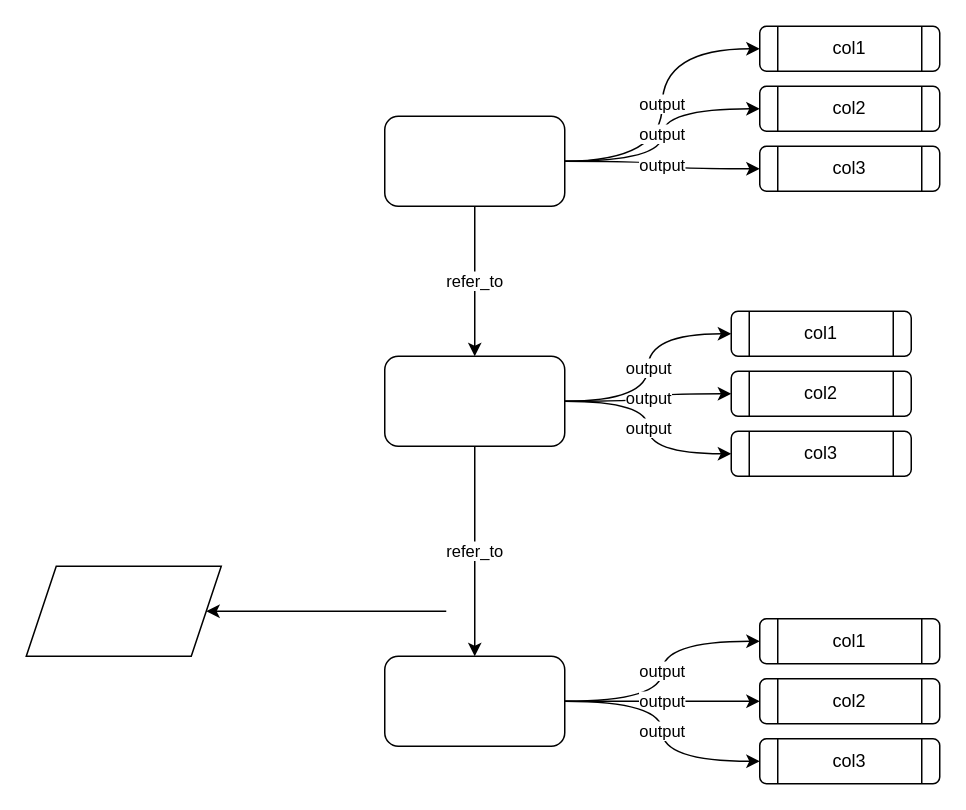
Image size: 966x810. Some labels were removed from this diagram. The centre of each missing label's shape, as x and y in pixels:
"insert" belongs at point (474, 160).
"select" belongs at point (474, 400).
"table" belongs at point (474, 700).
"不能直接表达 字段间的引用方式" belongs at point (123, 610).
